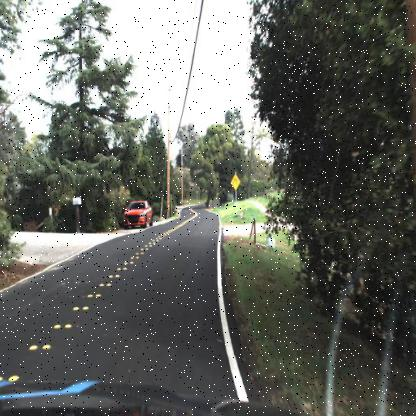car: (120, 197, 154, 231)
